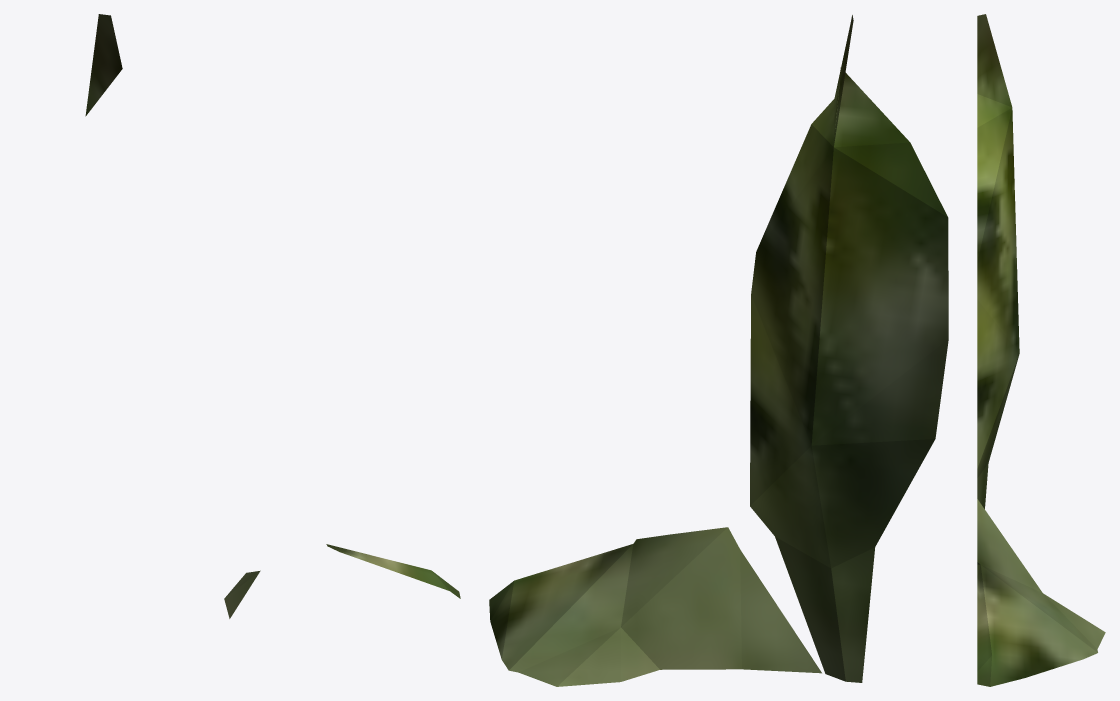
3 views of the same model, side by side, from view 1: azimuth 30°, elevation 25°; view 2: azimuth 150°, elevation 25°; view 3: azimuth 270°, elevation 25° (orthographic). The views are drawn at different scales.
Size of the model in its own units: 0.1756 by 0.2477 by 0.0541.
1 material, 1 textured.
